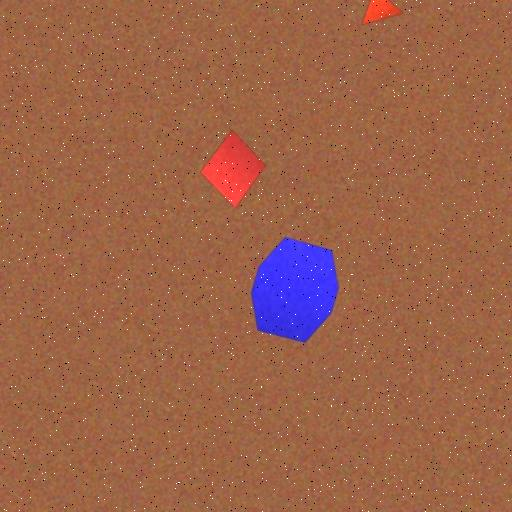RED_SQUARE: (200, 129, 267, 209)
